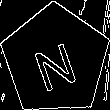N_N: (29, 29, 82, 91)
